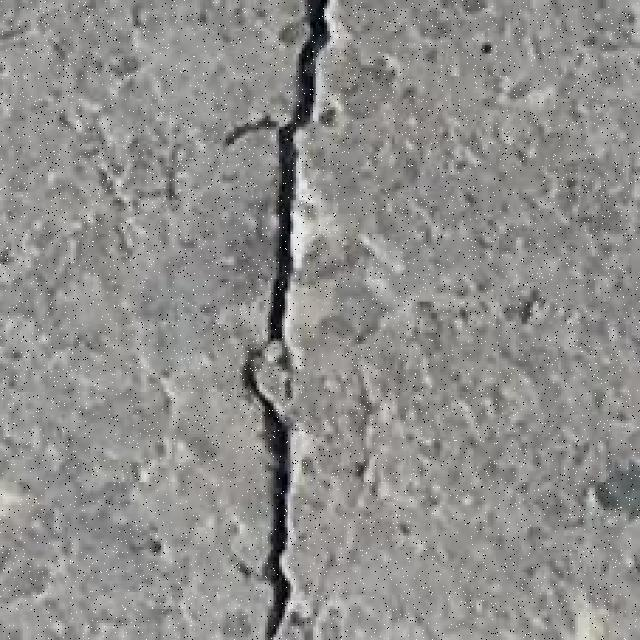Crack: (227, 0, 332, 638)
